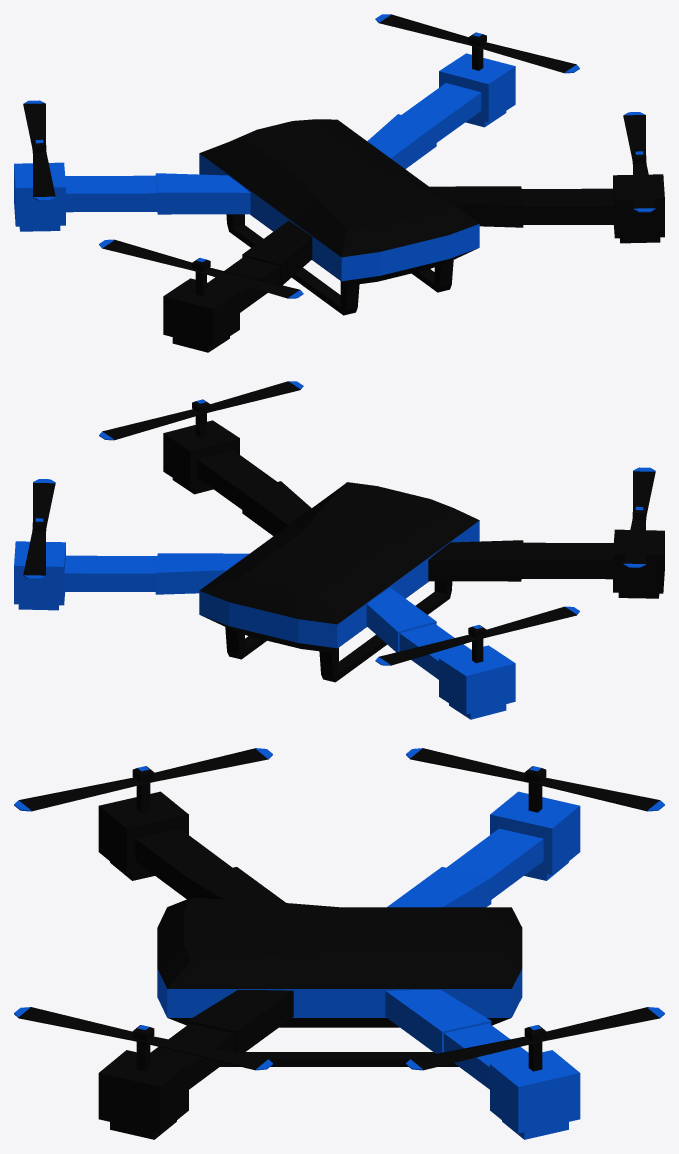
File: Drone.fbx
The picture shows the model from 3 angles, top to bottom: view 1: azimuth 30°, elevation 25°; view 2: azimuth 150°, elevation 25°; view 3: azimuth 270°, elevation 25°; orthographic projection. The views are drawn at different scales.
Visible parts, largest first — view 1: Cube, Cube.003, Cube.001, Cube.002, Cube.004; view 2: Cube, Cube.002, Cube.004, Cube.003, Cube.001; view 3: Cube, Cube.004, Cube.002, Cube.001, Cube.003.
Boxes of the visible parts, x1=… form: Cube: x1=14, y1=32, x2=664, y2=352; Cube.003: x1=375, y1=14, x2=579, y2=73; Cube.001: x1=99, y1=239, x2=303, y2=298; Cube.002: x1=623, y1=112, x2=655, y2=212; Cube.004: x1=23, y1=100, x2=55, y2=200; Cube: x1=14, y1=399, x2=664, y2=719; Cube.002: x1=99, y1=381, x2=303, y2=440; Cube.004: x1=375, y1=606, x2=579, y2=665; Cube.003: x1=23, y1=479, x2=55, y2=579; Cube.001: x1=623, y1=467, x2=655, y2=567; Cube: x1=98, y1=766, x2=580, y2=1139; Cube.004: x1=406, y1=748, x2=664, y2=811; Cube.002: x1=14, y1=1007, x2=272, y2=1070; Cube.001: x1=14, y1=748, x2=272, y2=811; Cube.003: x1=406, y1=1007, x2=664, y2=1070.
Size of the model in its own units: 441 by 87.89 by 378.
